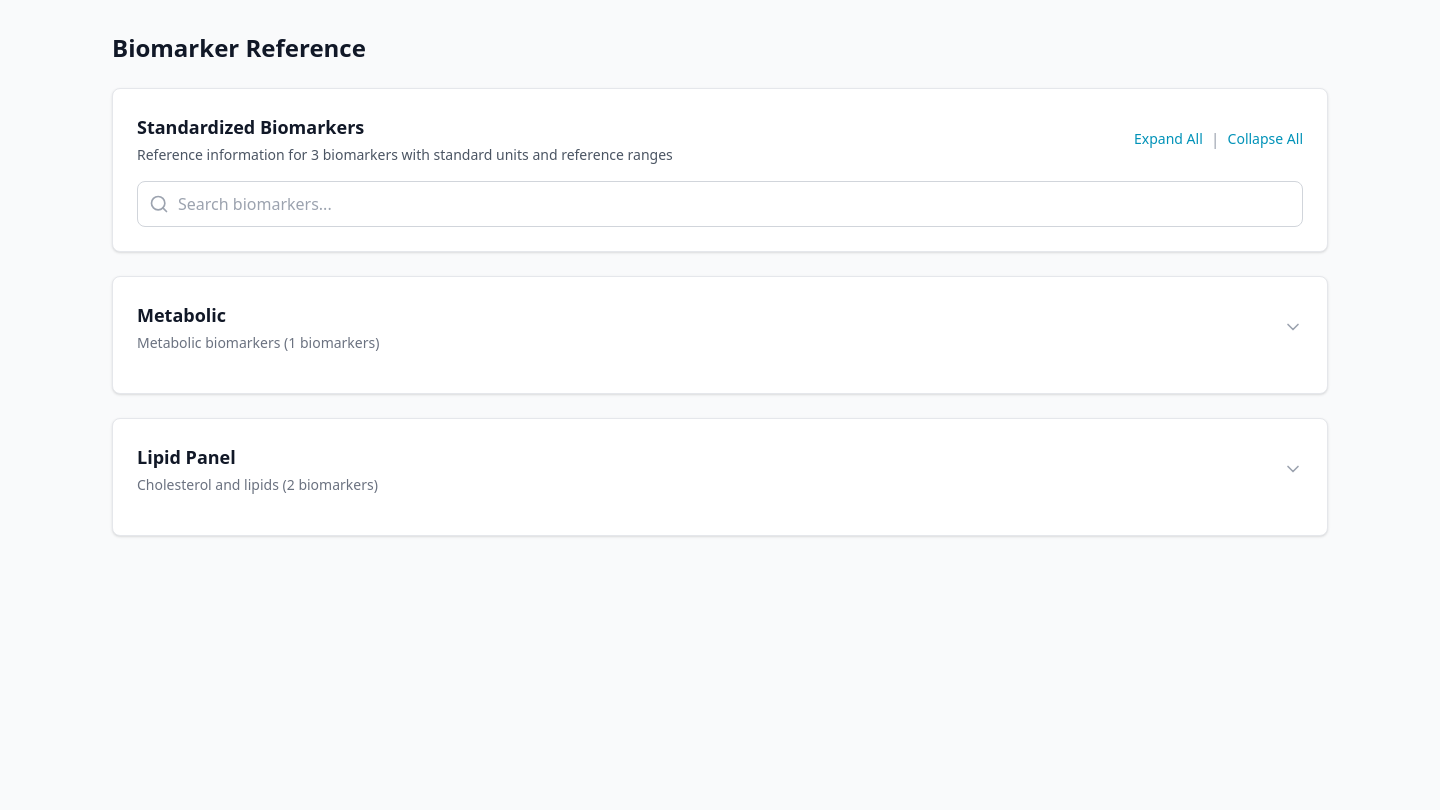
Test: BiomarkersPage › with biomarkers › expands all categories when clicking Expand All
The width and height of the screenshot is (1440, 810).
Click the button "Expand All" at (1168, 139), box [1134,129,1203,149]
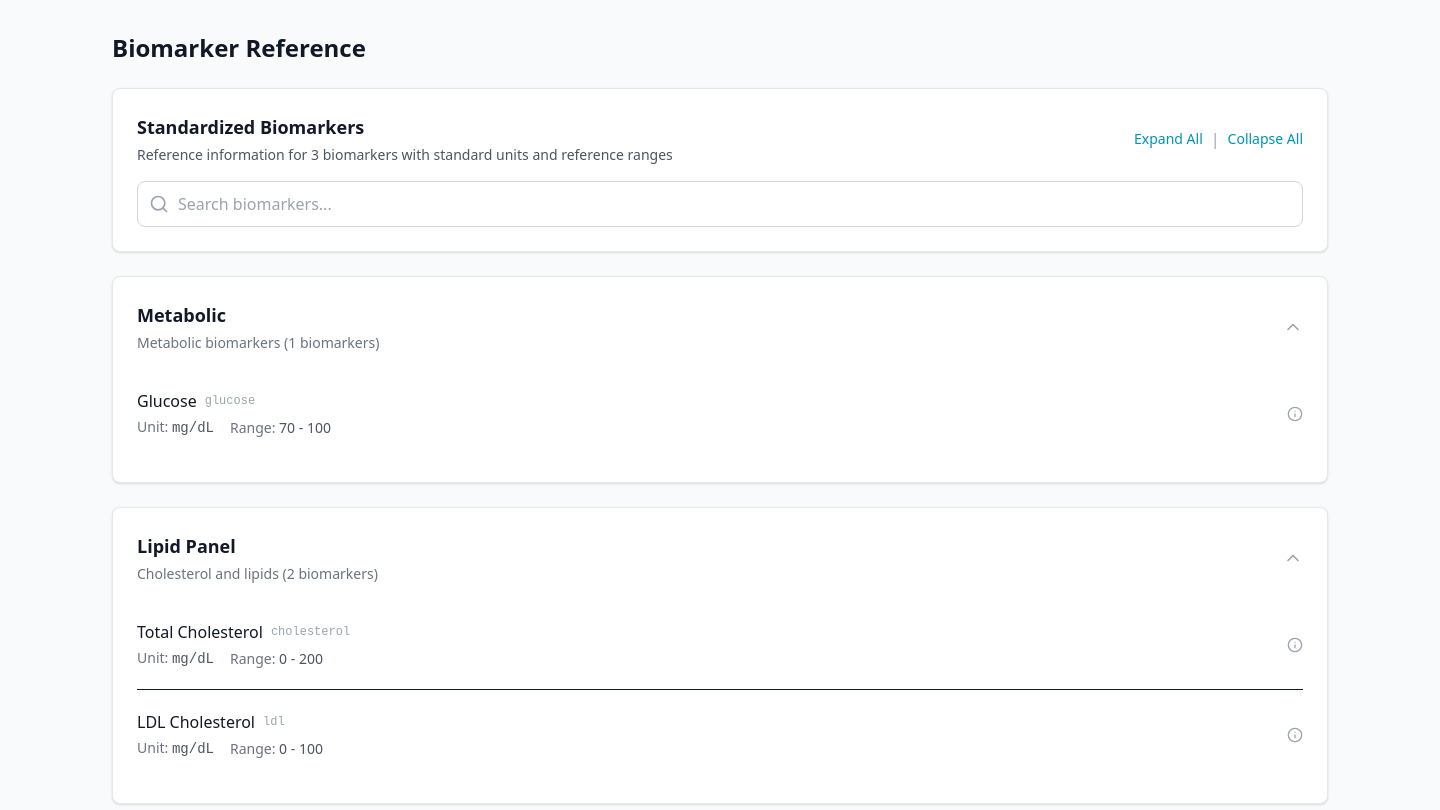
Now the text "Glucose" is shown, box [137,389,197,413]
Now the text "Total Cholesterol" is shown, box [137,620,263,644]
Now the text "LDL Cholesterol" is shown, box [137,710,255,734]
